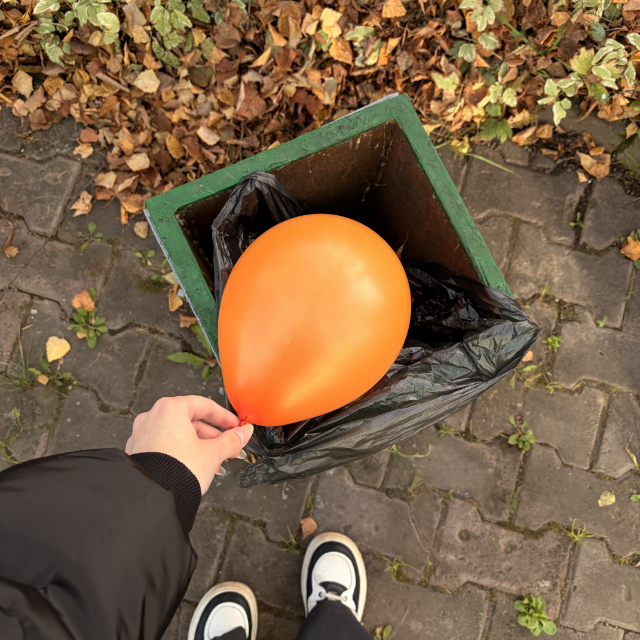balloon: (217, 213, 411, 427)
